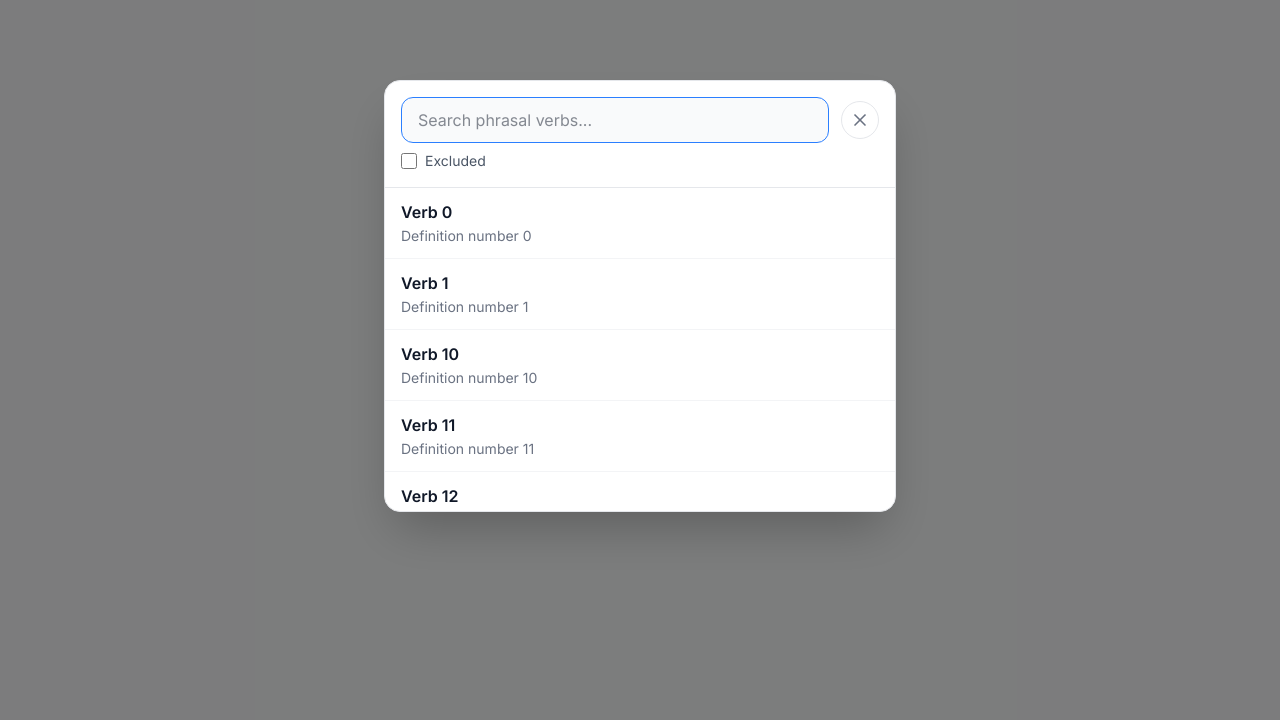
Test: SearchModal › shows matching results by verb name as query is typed
This screenshot has width=1280, height=720.
Type "Verb 1" into the field with placeholder "Search phrasal verbs...".
click(615, 120); type("Verb 1")  # box [401, 97, 829, 143]
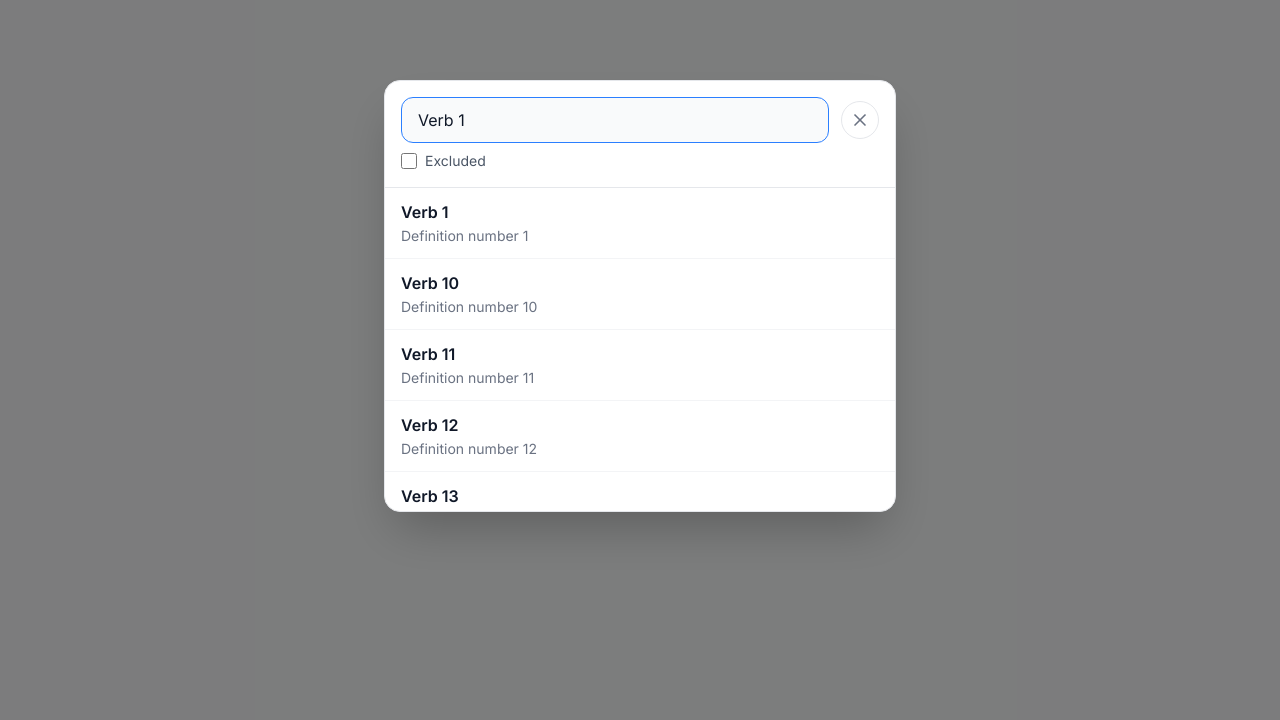
expect the text "Verb 1" is shown: met, box [401, 200, 449, 224]
